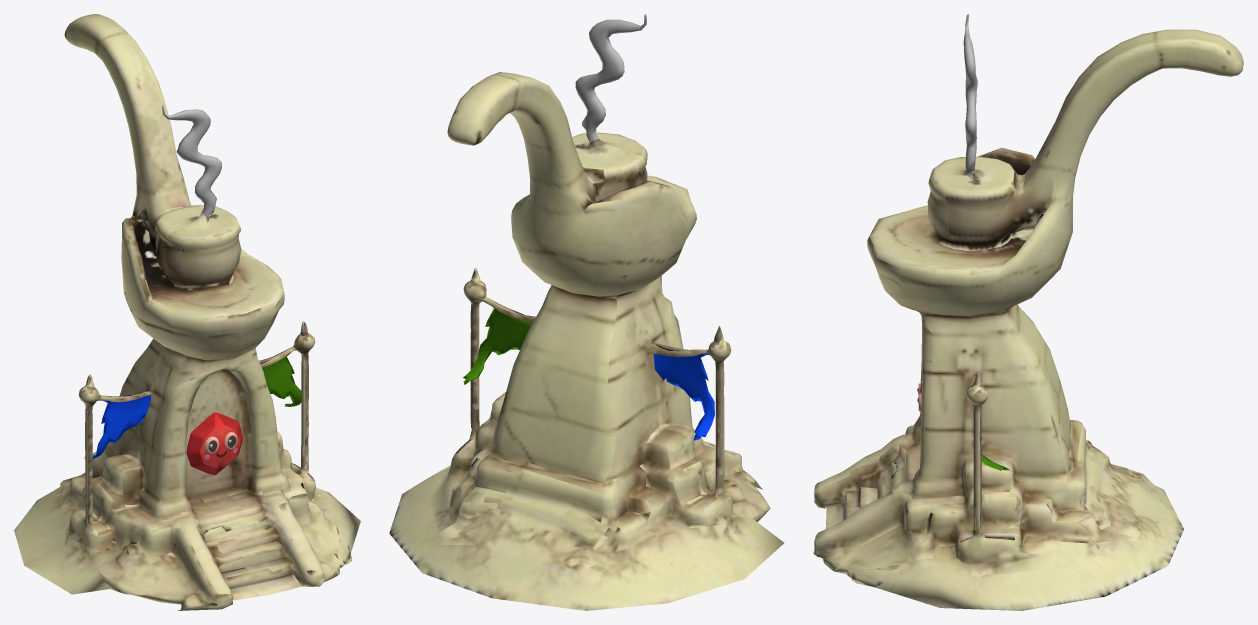
Rendered from obelisk.glb.
3 renders of one model, left to right at view 1: azimuth 30°, elevation 25°; view 2: azimuth 150°, elevation 25°; view 3: azimuth 270°, elevation 25°, orthographic. The views are drawn at different scales.
Visible parts, largest first — view 1: obelisk, face, smoke, flag1, flag1_1; view 2: obelisk, smoke, flag1, flag1_1; view 3: obelisk, smoke.
Boxes of the visible parts, x1=… form: obelisk: x1=14, y1=14, x2=360, y2=610; face: x1=186, y1=412, x2=242, y2=475; smoke: x1=162, y1=105, x2=221, y2=216; flag1: x1=84, y1=395, x2=150, y2=458; flag1_1: x1=262, y1=351, x2=301, y2=406; obelisk: x1=389, y1=72, x2=784, y2=610; smoke: x1=575, y1=14, x2=646, y2=142; flag1: x1=653, y1=353, x2=714, y2=440; flag1_1: x1=463, y1=306, x2=531, y2=384; obelisk: x1=813, y1=29, x2=1243, y2=610; smoke: x1=963, y1=14, x2=977, y2=170.
Bounding box in the file's own units: 1.71 × 2.44 × 1.91.
6 materials, 2 textured.
